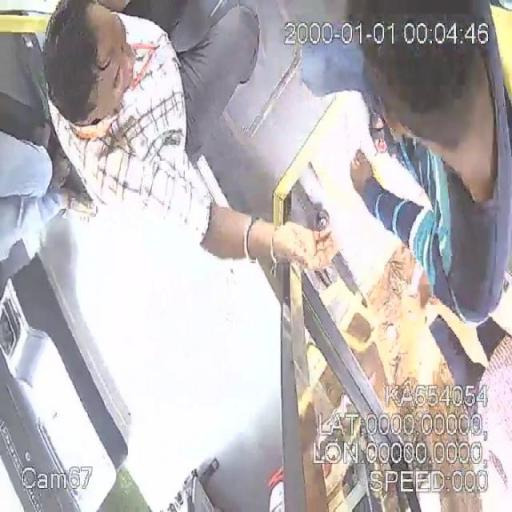persona: (39, 1, 337, 265), (346, 2, 511, 310)
